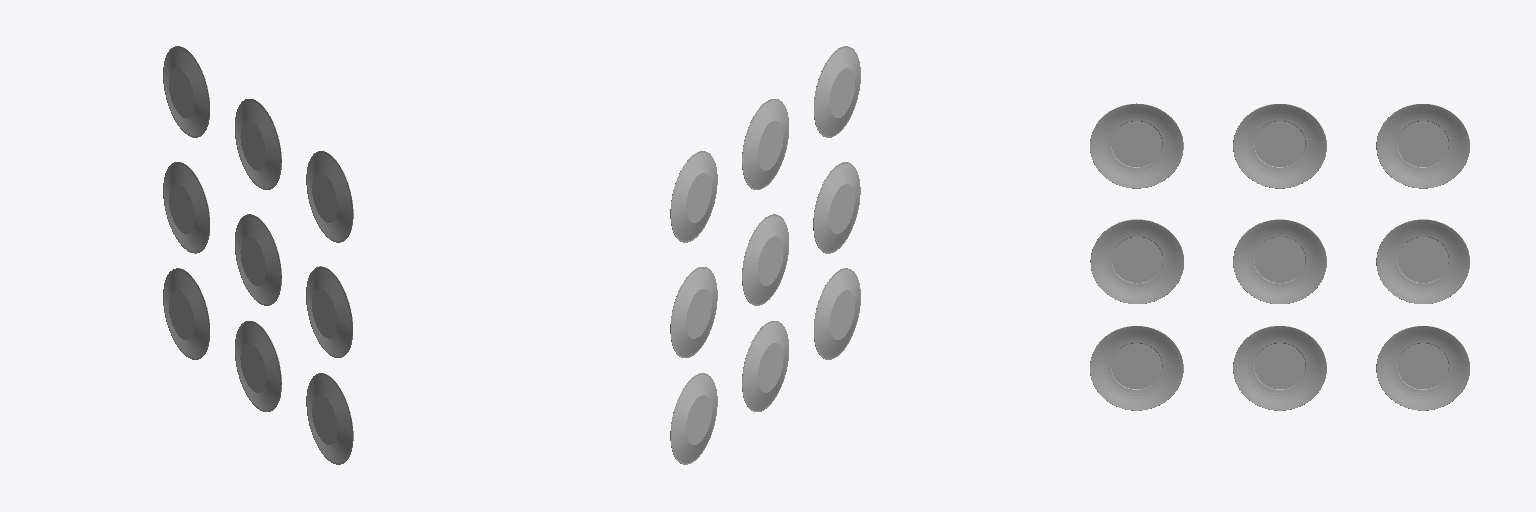
Rendered from decorative_plates.obj.
3 renders of one model, left to right at view 1: azimuth 30°, elevation 25°; view 2: azimuth 150°, elevation 25°; view 3: azimuth 270°, elevation 25°, orthographic.
Visible parts, largest first — view 1: Line[number redacted], Line[number redacted], Line[number redacted], Line[number redacted], Line[number redacted], Line[number redacted], Line[number redacted], Line[number redacted], Line[number redacted]; view 2: Line[number redacted], Line[number redacted], Line[number redacted], Line[number redacted], Line[number redacted], Line[number redacted], Line[number redacted], Line[number redacted], Line[number redacted]; view 3: Line[number redacted], Line[number redacted], Line[number redacted], Line[number redacted], Line[number redacted], Line[number redacted], Line[number redacted], Line[number redacted], Line[number redacted].
Part boxes in pixels (x1,y1,x2,y2): Line[number redacted]: (306,151,353,242); Line[number redacted]: (163,162,209,253); Line[number redacted]: (163,268,209,359); Line[number redacted]: (306,373,353,464); Line[number redacted]: (163,46,209,137); Line[number redacted]: (235,214,281,305); Line[number redacted]: (306,266,352,357); Line[number redacted]: (235,321,281,411); Line[number redacted]: (235,99,281,189); Line[number redacted]: (813,162,860,253); Line[number redacted]: (670,151,717,242); Line[number redacted]: (670,267,717,357); Line[number redacted]: (814,268,860,359); Line[number redacted]: (670,373,717,464); Line[number redacted]: (814,46,860,137); Line[number redacted]: (742,214,788,305); Line[number redacted]: (742,321,788,411); Line[number redacted]: (742,99,788,189); Line[number redacted]: (1233,326,1326,410); Line[number redacted]: (1233,219,1326,303); Line[number redacted]: (1233,104,1326,188); Line[number redacted]: (1090,326,1183,410); Line[number redacted]: (1376,326,1469,410); Line[number redacted]: (1376,219,1469,303); Line[number redacted]: (1090,103,1183,188); Line[number redacted]: (1376,104,1469,188); Line[number redacted]: (1090,219,1183,303).
Bounding box in the file's own units: 18.06 × 980 × 1100.